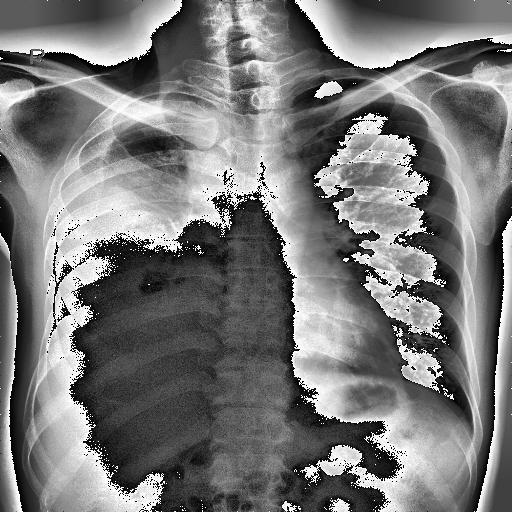10- Pleural effusion: (34, 96, 238, 390), (61, 78, 232, 398), (50, 92, 220, 372)
6- Infiltration: (104, 103, 196, 216)
7- Lung Opacity: (104, 103, 196, 216), (108, 118, 197, 218)
